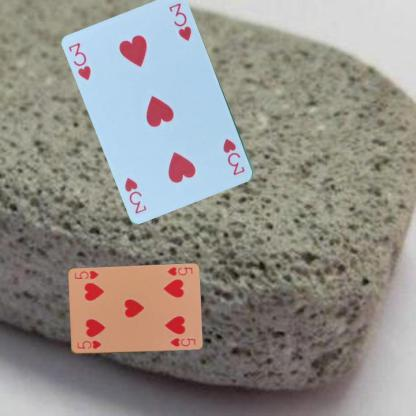3h: (66, 40, 93, 82), (221, 136, 246, 177)
5h: (75, 338, 102, 351), (165, 265, 194, 277)
